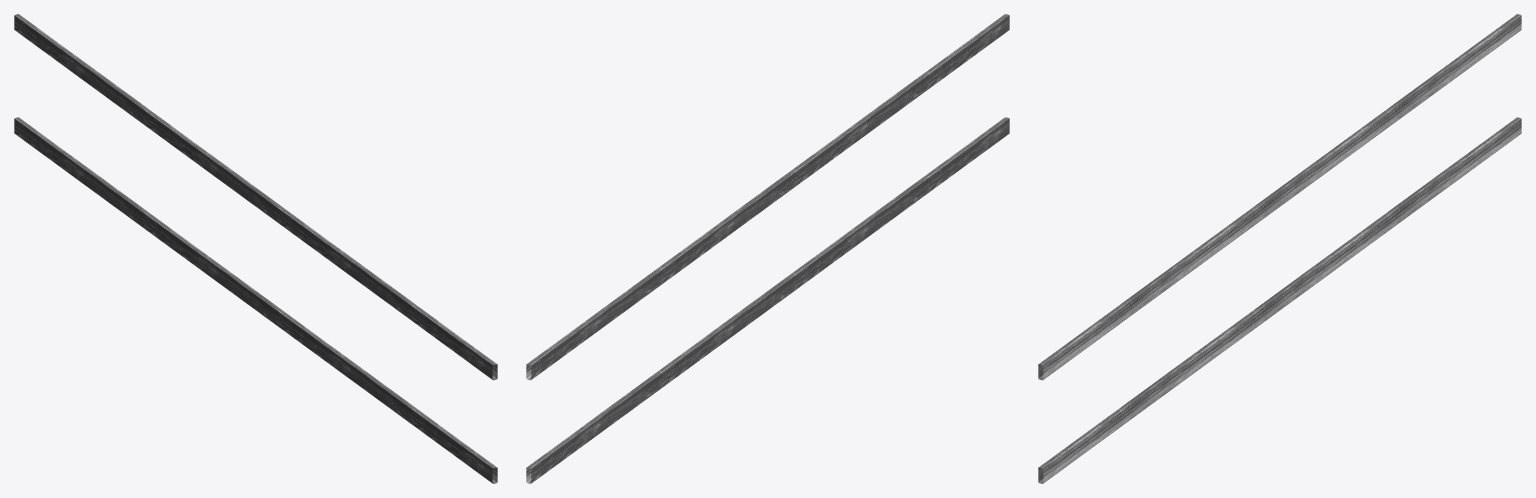
File: SM_Fence_E3_Splines_5.fbx
3 renders of one model, left to right at view 1: azimuth 30°, elevation 25°; view 2: azimuth 150°, elevation 25°; view 3: azimuth 330°, elevation 25°, orthographic.
Visible parts, largest first — view 1: SM_Fence_E3_Splines_5; view 2: SM_Fence_E3_Splines_5; view 3: SM_Fence_E3_Splines_5.
Boxes of the visible parts, left/top/right/bottom form: SM_Fence_E3_Splines_5: left=14, top=14, right=497, bottom=483; SM_Fence_E3_Splines_5: left=526, top=14, right=1009, bottom=483; SM_Fence_E3_Splines_5: left=1038, top=14, right=1521, bottom=483.
Bounding box in the file's own units: 2.62 × 450 × 61.66.
Materials: 1 (1 with a texture image).
